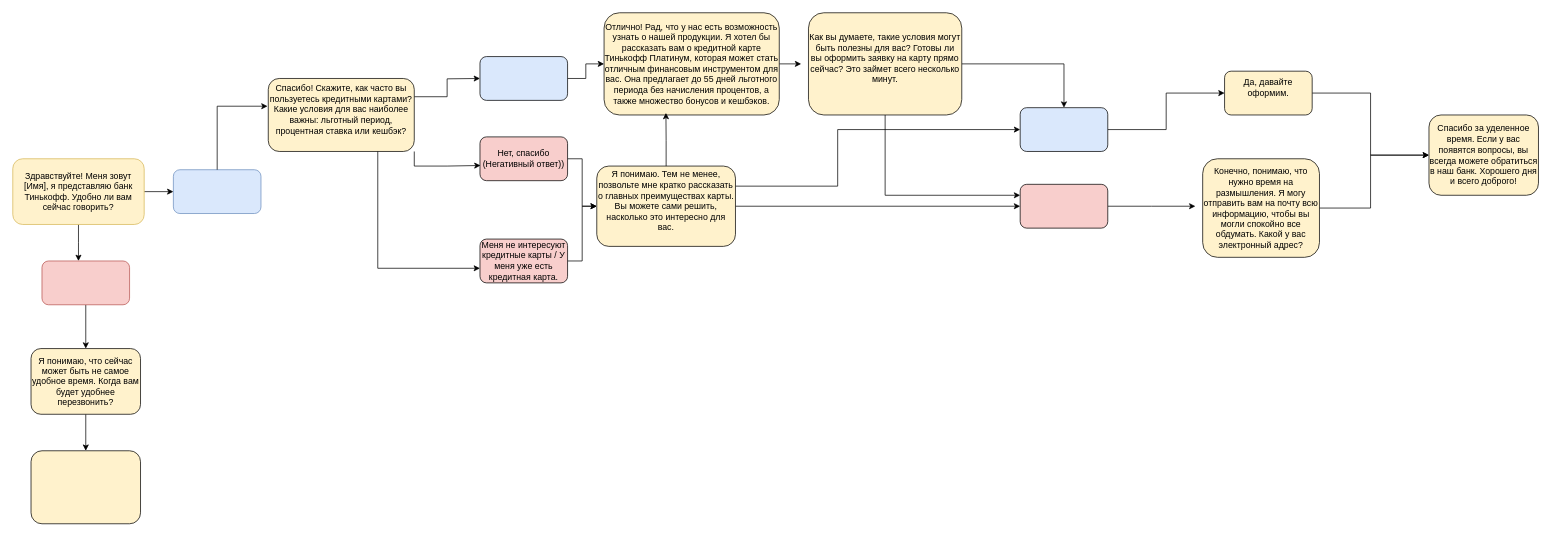
This 1551x537 diagram has some shape labels left out. The box of each missing label's shape, as (x1, y1, x2, y2) in pixels:
Да, давайте оформим. (Положительный ответ): (1019, 107, 1108, 151)
Да, конечно. (Положительный ответ): (479, 56, 568, 100)
Да, удобно. (Положительный ответ): (173, 169, 261, 214)
Нет, не удобно. (Негативный ответ): (41, 260, 130, 305)
Нет, я еще подумаю (Негативный ответ)): (1019, 184, 1108, 228)
Спасибо! Я обязательно перезвоню вам в указанное время. Хорошего дня!: (30, 450, 141, 524)
